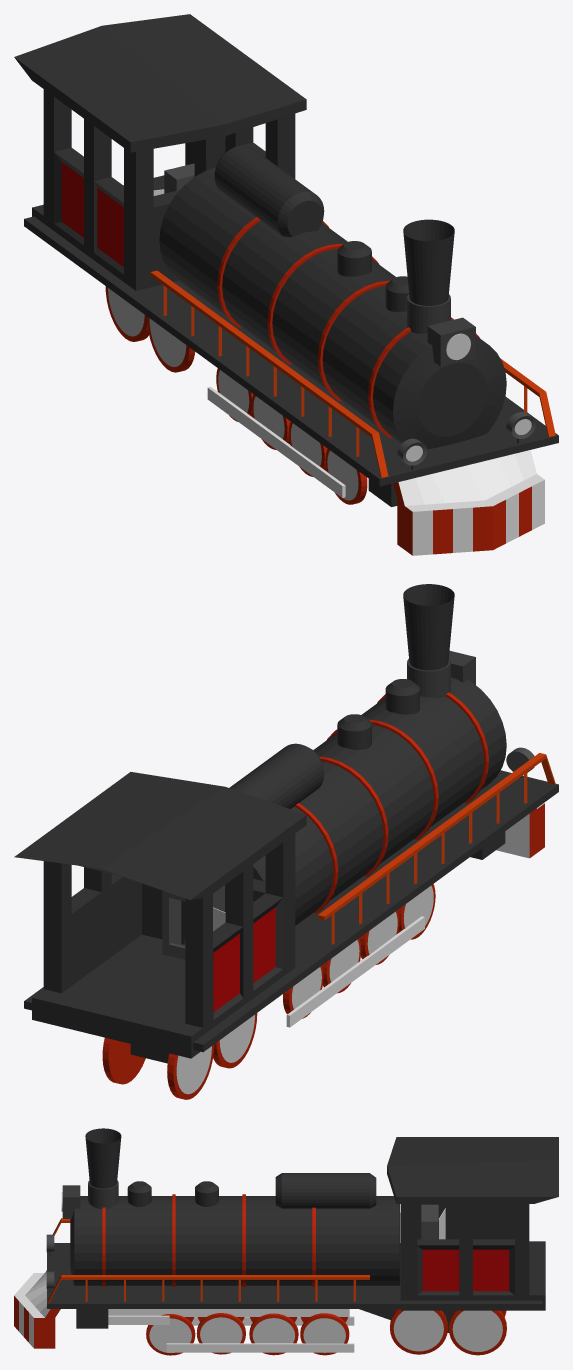
The model's file is parovoZ2.fbx.
The picture shows the model from 3 angles, top to bottom: view 1: azimuth 30°, elevation 25°; view 2: azimuth 150°, elevation 25°; view 3: azimuth 270°, elevation 25°; orthographic projection. The views are drawn at different scales.
Visible parts, largest first — view 1: Cylinder, Cube.010, Cube.002, Cube, Cube.009, Cylinder.008, Cylinder.007, Cube.003, Cylinder.003, Cube.004, Cylinder.005, Cube.006 (+9 smaller); view 2: Cube.002, Cylinder, Cube.010, Cube, Cylinder.007, Cylinder.008, Cylinder.003, Cylinder.010, Cube.003, Cylinder.005, Cube.004, Cube.009 (+9 smaller); view 3: Cylinder, Cube.002, Cube.010, Cube, Cylinder.008, Cube.009, Cylinder.010, Cylinder.012, Cube.004, Cylinder.007, Cube.003, Cube.008 (+14 smaller).
Part boxes in pixels (<box>): Cylinder: <box>159,167,506,449</box>; Cube.010: <box>14,14,306,152</box>; Cube.002: <box>32,89,295,290</box>; Cube: <box>24,216,558,486</box>; Cube.009: <box>393,450,544,555</box>; Cylinder.008: <box>214,145,324,236</box>; Cylinder.007: <box>403,219,454,305</box>; Cube.003: <box>150,270,555,477</box>; Cylinder.003: <box>217,217,479,437</box>; Cube.004: <box>207,386,345,497</box>; Cylinder.005: <box>337,241,408,311</box>; Cube.006: <box>427,317,475,366</box>; Cube.002: <box>32,834,295,1058</box>; Cylinder: <box>253,677,506,925</box>; Cube.010: <box>14,772,306,899</box>; Cube: <box>24,770,558,1052</box>; Cylinder.007: <box>403,584,454,670</box>; Cylinder.008: <box>229,743,324,808</box>; Cylinder.003: <box>294,692,488,913</box>; Cylinder.010: <box>102,1037,214,1099</box>; Cube.003: <box>318,753,555,920</box>; Cylinder.005: <box>337,679,419,749</box>; Cube.004: <box>286,916,424,1027</box>; Cube.009: <box>496,803,544,858</box>; Cylinder: <box>70,1196,400,1285</box>; Cube.002: <box>400,1204,545,1310</box>; Cube.010: <box>387,1137,558,1203</box>; Cube: <box>47,1243,542,1308</box>; Cylinder.008: <box>275,1173,376,1208</box>; Cube.009: <box>14,1270,60,1348</box>; Cylinder.010: <box>449,1310,506,1355</box>; Cylinder.012: <box>390,1309,447,1354</box>; Cube.004: <box>166,1316,354,1352</box>; Cylinder.007: <box>85,1128,121,1188</box>; Cube.003: <box>48,1218,369,1302</box>; Cube.008: <box>108,1309,349,1316</box>.
Size of the model in its own units: 298 by 474 by 1128.
